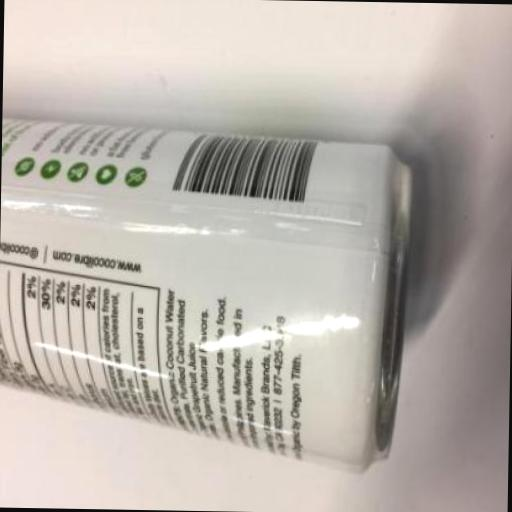metal: (0, 115, 413, 472)
